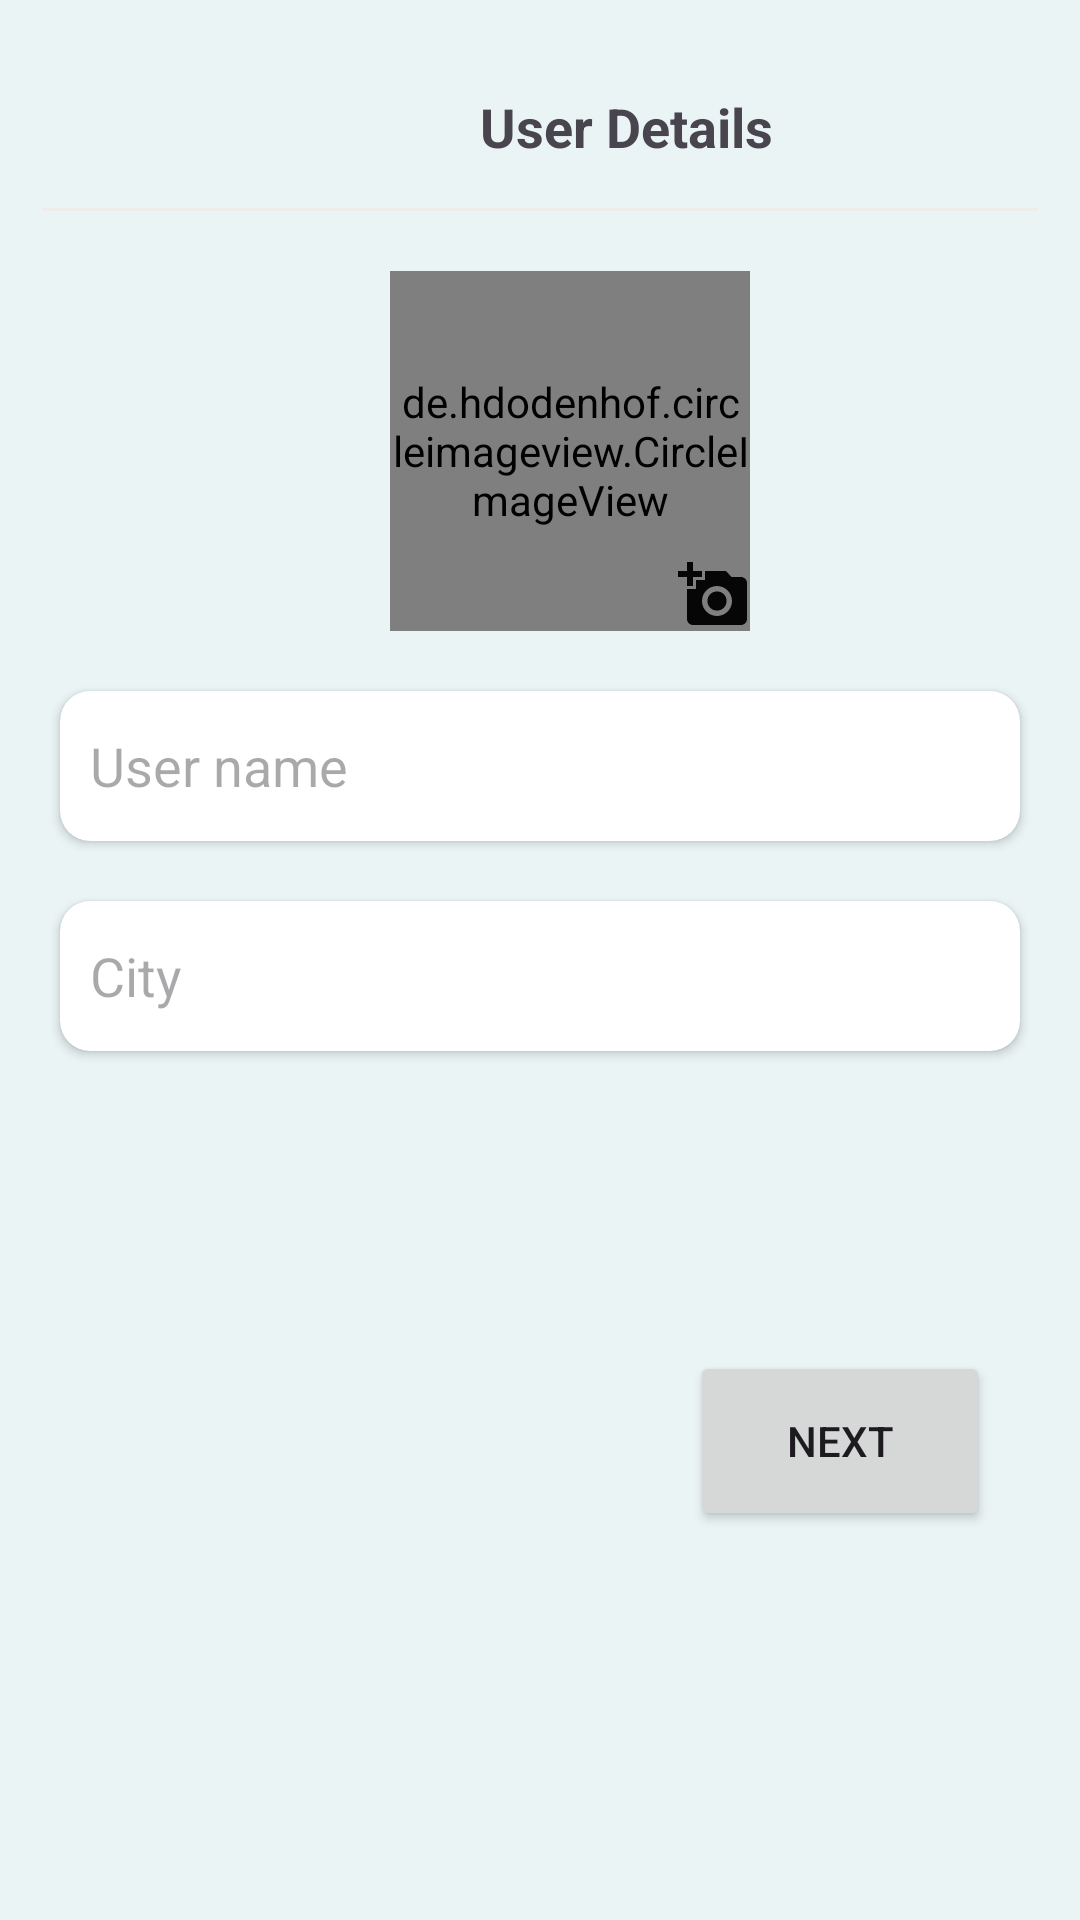

Icon click points for this 1080 × 1920 phone screenshot, format (x=x, y=y):
add photo: (x=712, y=593)
